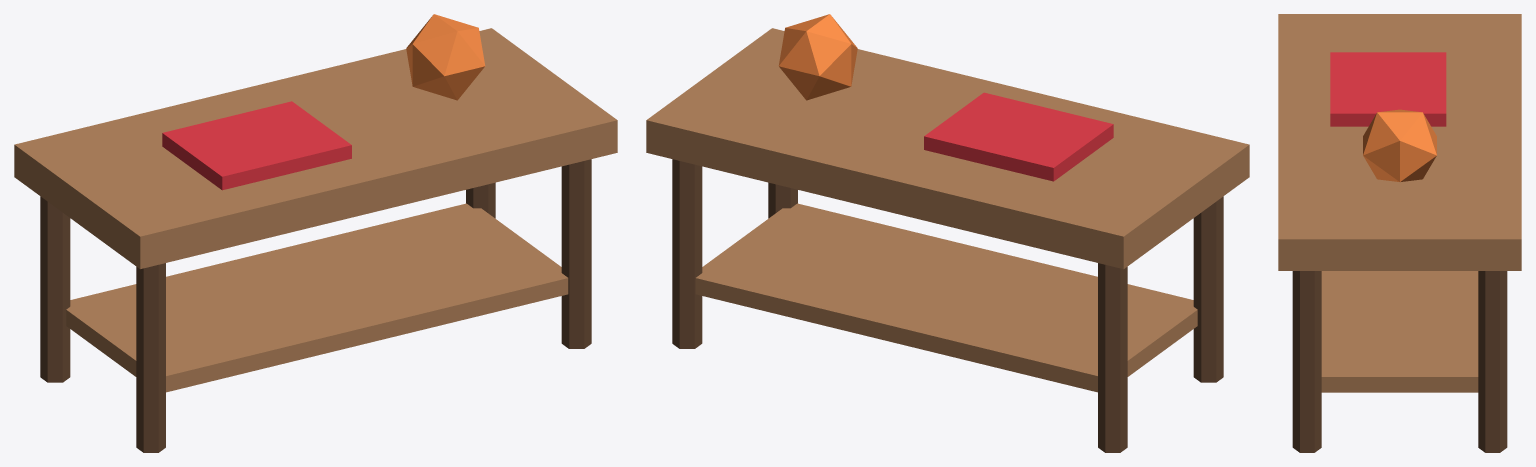
File: coffee_table.03dd01c9fe64.glb
The picture shows the model from 3 angles, left to right: view 1: azimuth 30°, elevation 25°; view 2: azimuth 150°, elevation 25°; view 3: azimuth 270°, elevation 25°; orthographic projection. The views are drawn at different scales.
Visible parts, largest first — view 1: coffee_table; view 2: coffee_table; view 3: coffee_table.
Part boxes in pixels (left/top/right/bottom): coffee_table: left=14, top=14, right=617, bottom=452; coffee_table: left=646, top=14, right=1249, bottom=452; coffee_table: left=1278, top=14, right=1521, bottom=452.
Bounding box in the file's own units: 0.92 × 0.5638 × 0.42.
